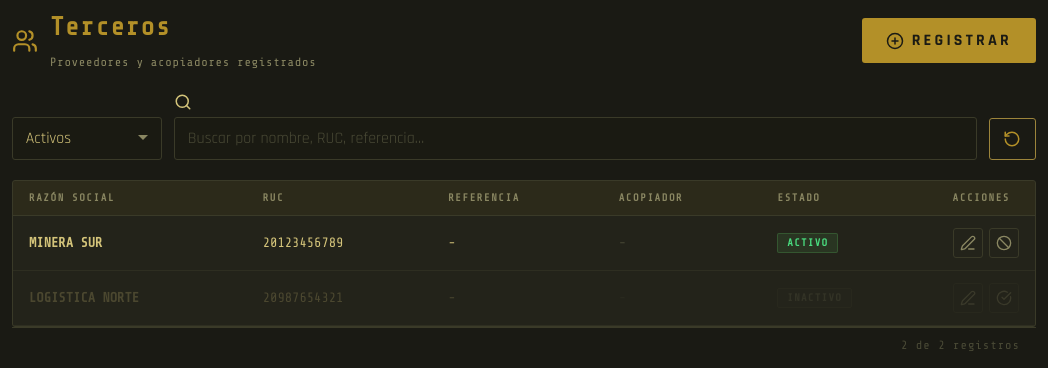
Test: TercerosView.vue › filtra correctamente los resultados al escribir en el buscador
This screenshot has width=1048, height=368.
Type "MINERA" into the field with placeholder "Buscar por nombre, RUC, referencia…" at (575,138), box [174,117,977,160]
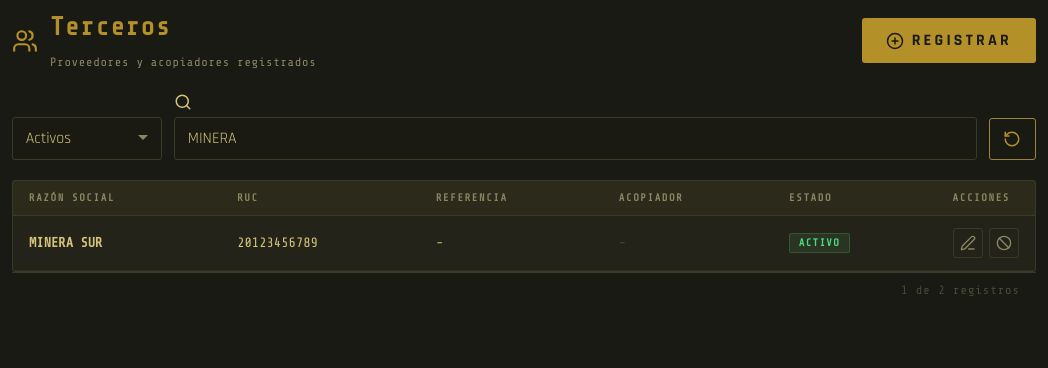
Expected: the text "MINERA SUR" is shown, [29,236,102,250]
Now the text "LOGISTICA NORTE" is gone
